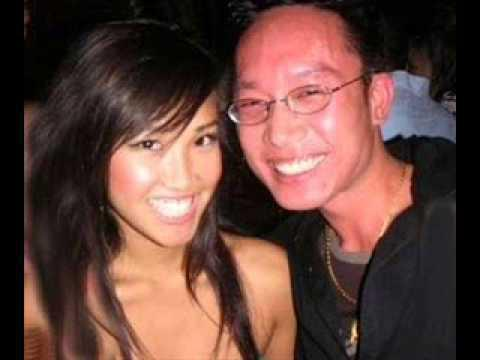Drunk: (236, 32, 364, 212), (110, 90, 221, 247)
